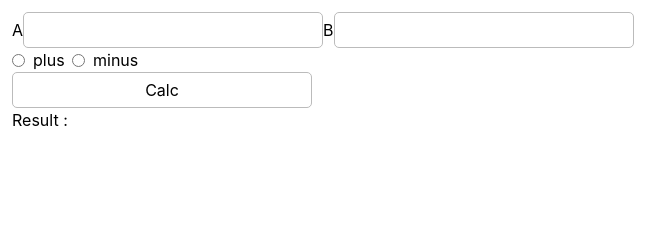
Test: cal 단위 테스트 › 필수 입력
This screenshot has width=651, height=251.
Click the button "Calc": [162, 90] box top-left (12, 72), bottom-right (312, 108)
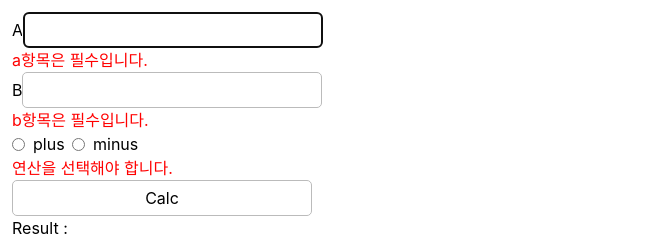
Expected: the text with test id "error-a" reads "a항목은 필수입니다.", top-left (12, 50), bottom-right (148, 70)
Expected: the text with test id "error-b" reads "b항목은 필수입니다.", top-left (12, 110), bottom-right (149, 130)
Expected: the text "연산을 선택해야 합니다." is shown, top-left (12, 158), bottom-right (173, 178)
